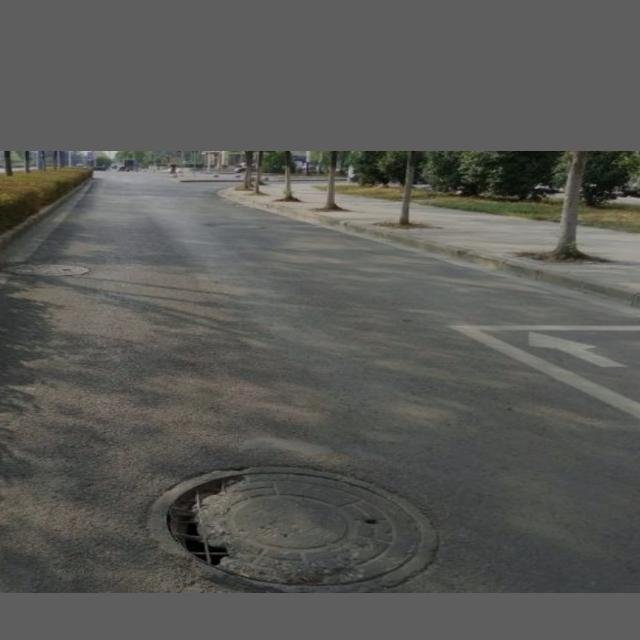broke: (148, 463, 440, 593)
